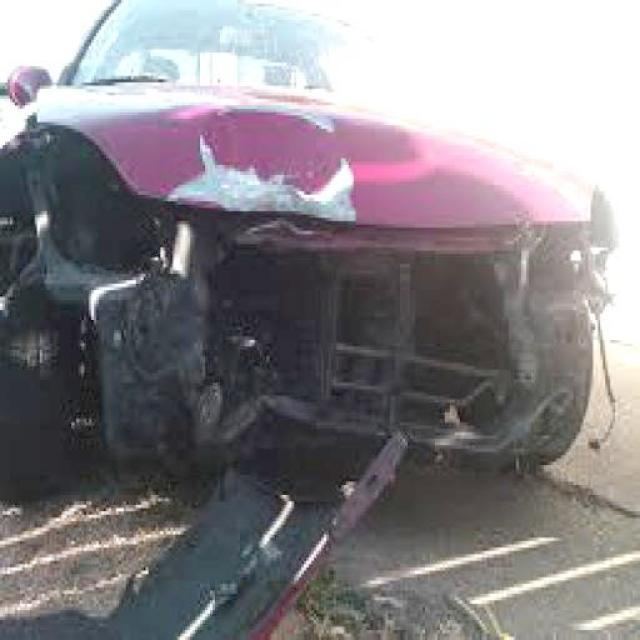car damage: (12, 86, 626, 636)
